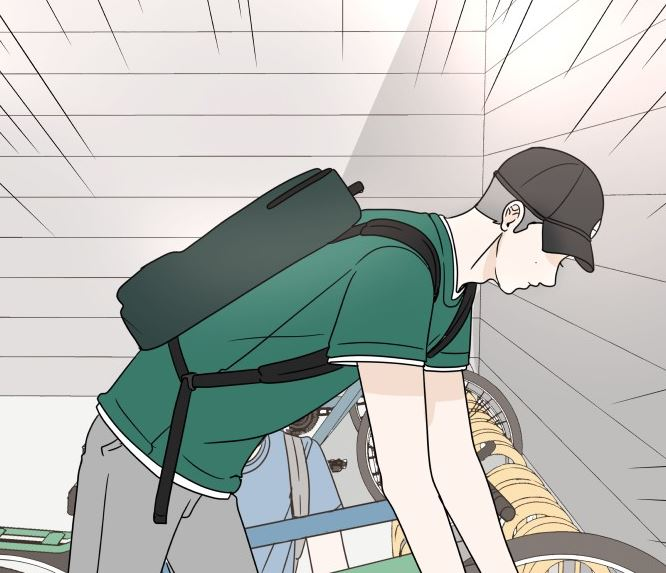hat: (494, 146, 604, 274)
